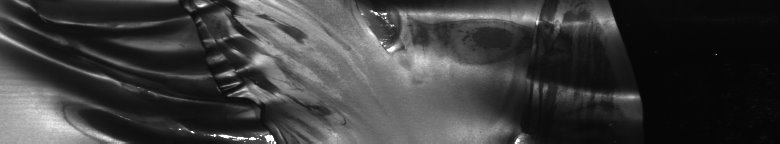ke: (4, 4, 504, 136)
